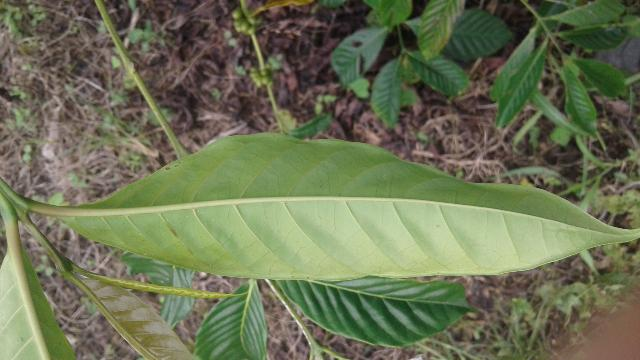healthy: (57, 131, 640, 281)
